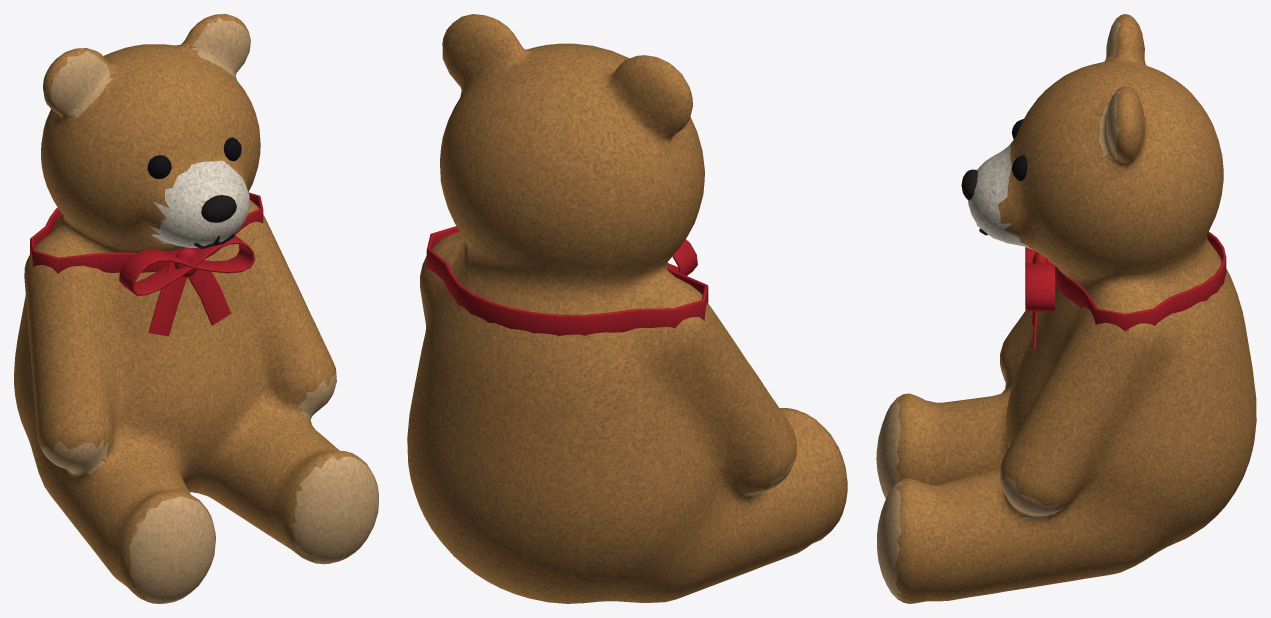
Rendered from teddy.glb.
3 renders of one model, left to right at view 1: azimuth 30°, elevation 25°; view 2: azimuth 150°, elevation 25°; view 3: azimuth 270°, elevation 25°, orthographic. The views are drawn at different scales.
Parts seen in each view (by area): view 1: Teddy bear body, Ribbon bow, Eyes, nose and mouth; view 2: Teddy bear body, Ribbon bow; view 3: Teddy bear body, Ribbon bow, Eyes, nose and mouth.
Boxes of the visible parts, bbox=[...] form: Teddy bear body: bbox=[14, 14, 378, 603]; Ribbon bow: bbox=[30, 192, 263, 336]; Eyes, nose and mouth: bbox=[147, 137, 241, 248]; Teddy bear body: bbox=[407, 14, 847, 603]; Ribbon bow: bbox=[426, 226, 708, 335]; Teddy bear body: bbox=[876, 14, 1256, 603]; Ribbon bow: bbox=[1025, 231, 1226, 349]; Eyes, nose and mouth: bbox=[961, 119, 1027, 235].
Size of the model in its own units: 0.1662 by 0.2601 by 0.1783.
Materials: 6 (6 with a texture image).
